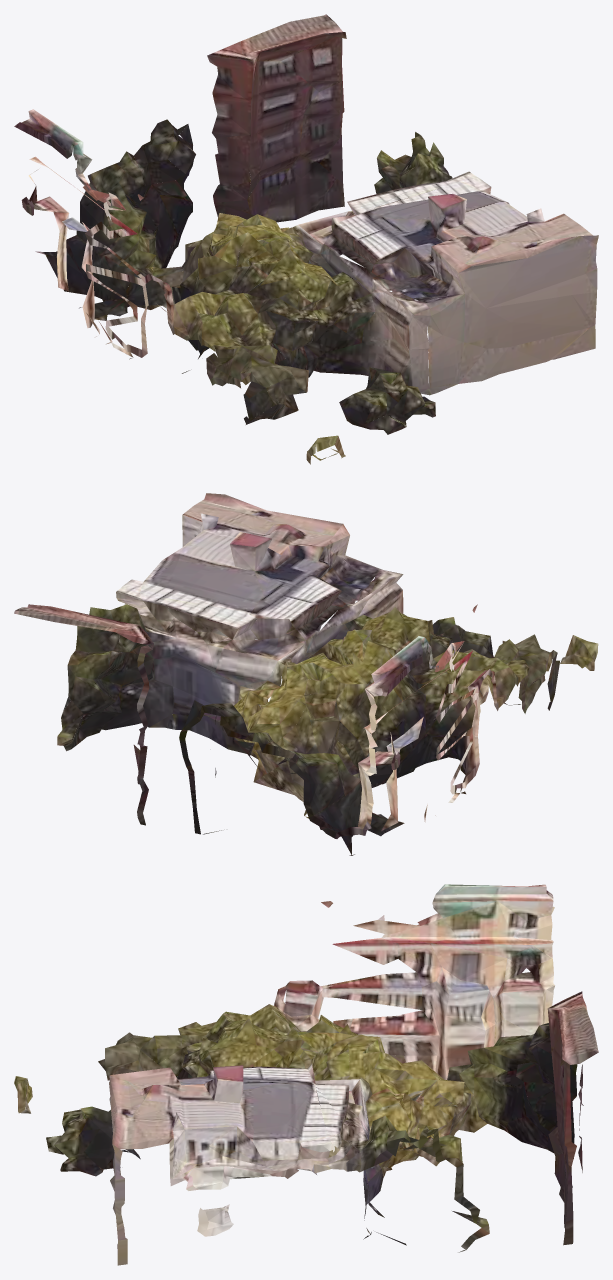
The picture shows the model from 3 angles, top to bottom: view 1: azimuth 30°, elevation 25°; view 2: azimuth 150°, elevation 25°; view 3: azimuth 270°, elevation 25°; orthographic projection. The views are drawn at different scales.
Visible parts, largest first — view 1: Mesh_0; view 2: Mesh_0; view 3: Mesh_0.
Part boxes in pixels (bbox=[...]): Mesh_0: bbox=[14, 14, 598, 464]; Mesh_0: bbox=[14, 493, 598, 855]; Mesh_0: bbox=[14, 884, 598, 1265].
Bounding box in the file's own units: 32.91 × 15.59 × 41.44.
Materials: 2 (2 with a texture image).
